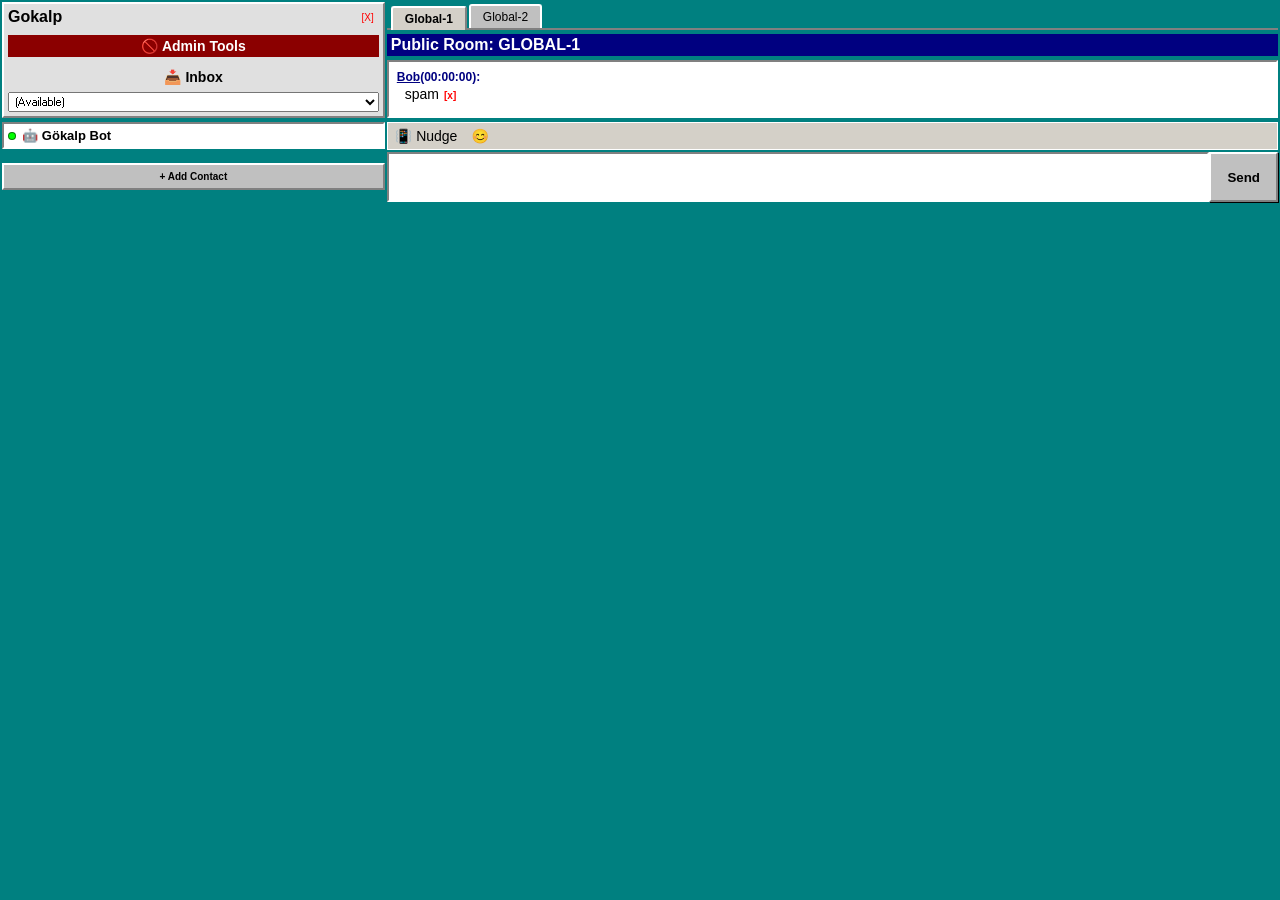
admin tools › cancelling the confirmation keeps the message
Click the button titled "Delete Message" at [450, 96], box x1=444 y1=90 x2=456 y2=101
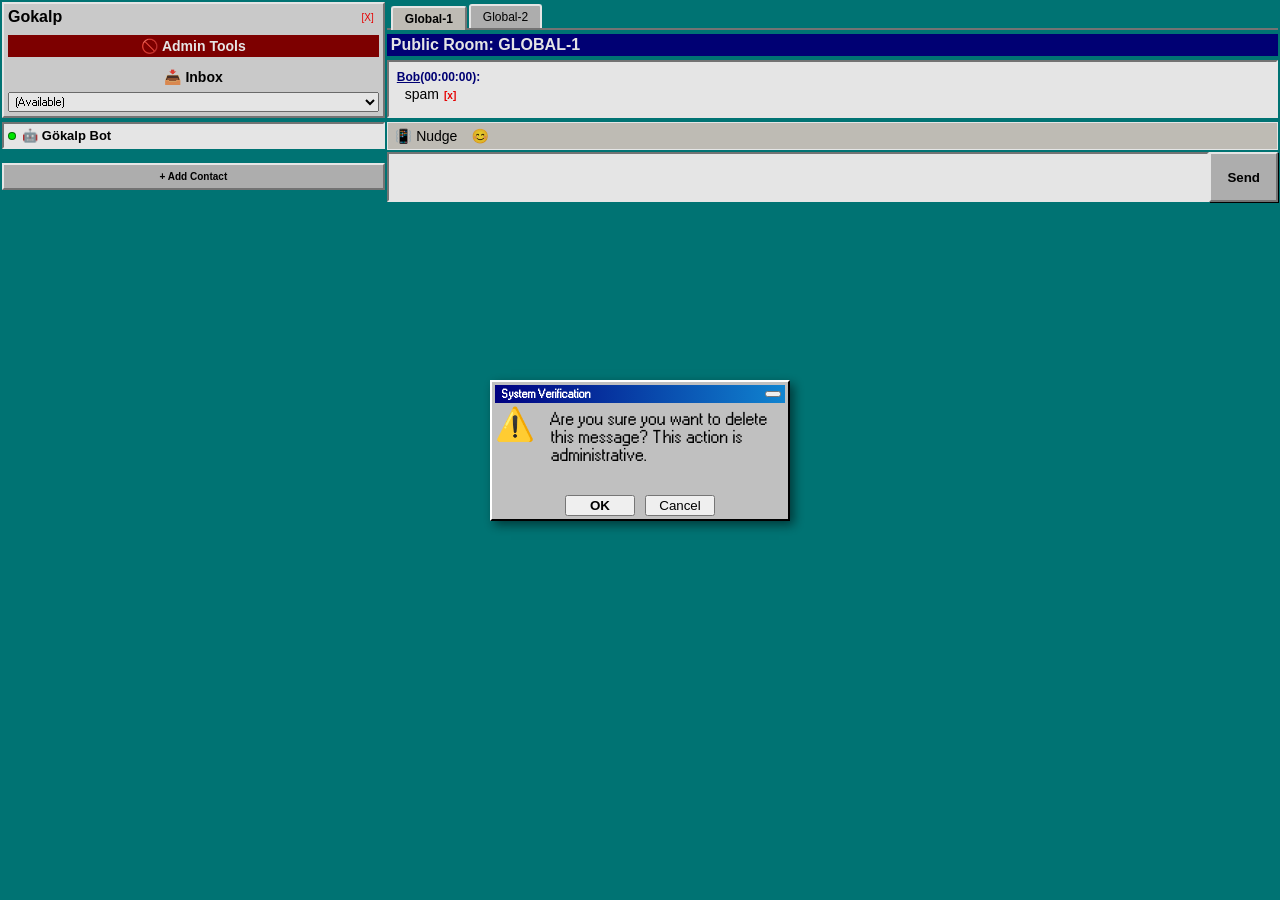
Click the button "Cancel" at [680, 505], box x1=645 y1=494 x2=715 y2=516
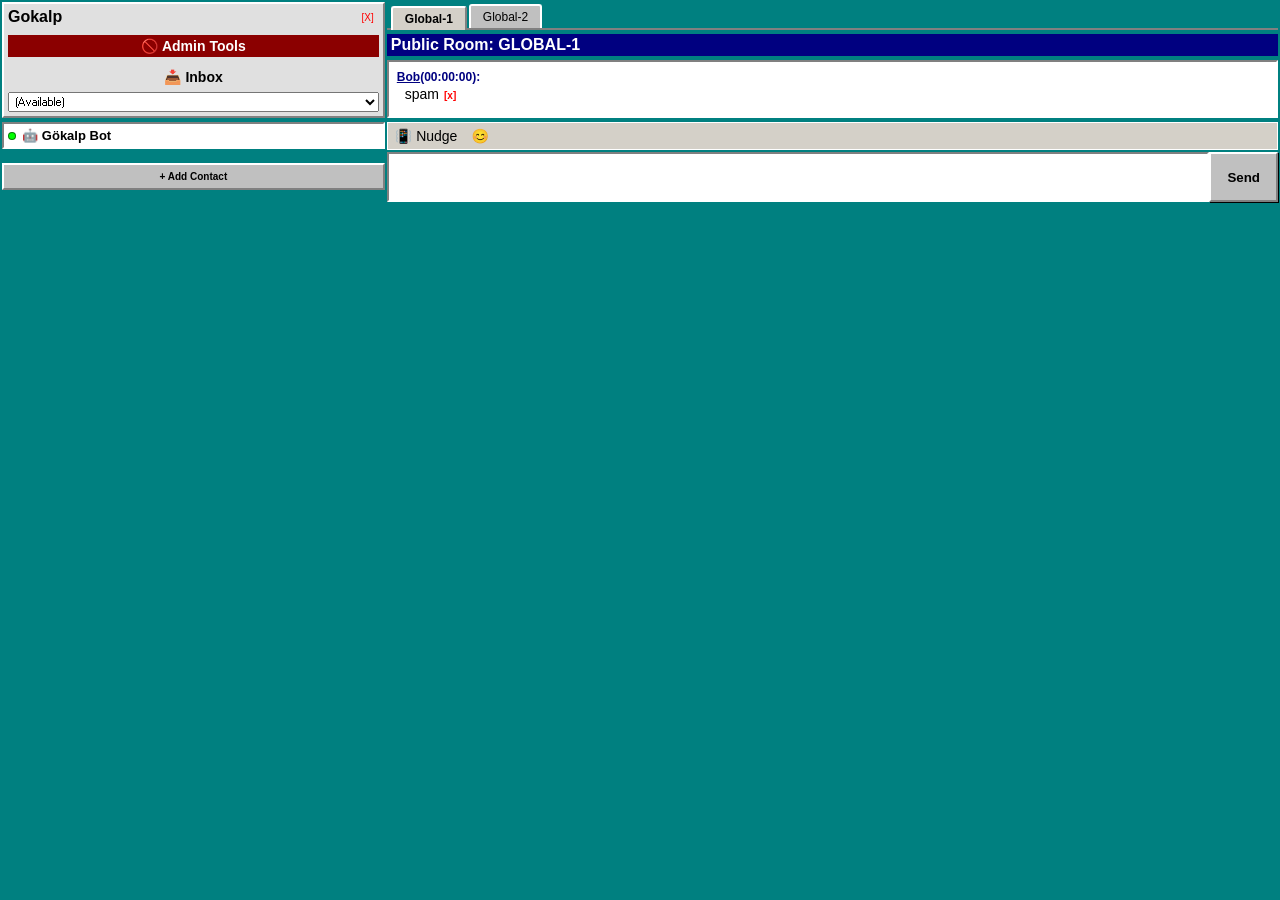
Now the text "System Verification" is gone
